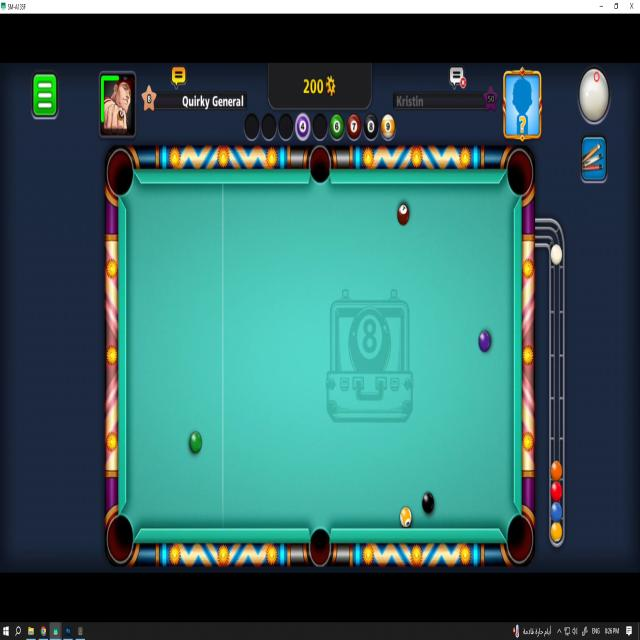object_ball: (422, 492, 434, 513), (398, 204, 409, 225), (190, 432, 201, 453), (479, 331, 490, 352), (400, 507, 411, 527)
